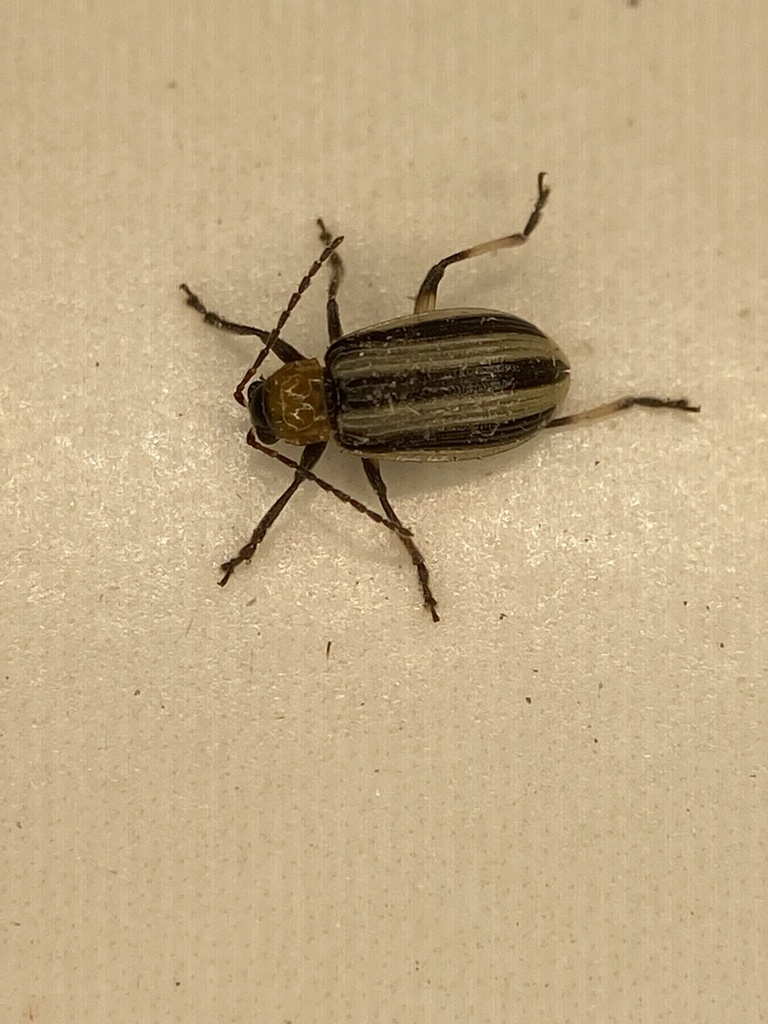potato_beetle: (47, 72, 768, 708)
